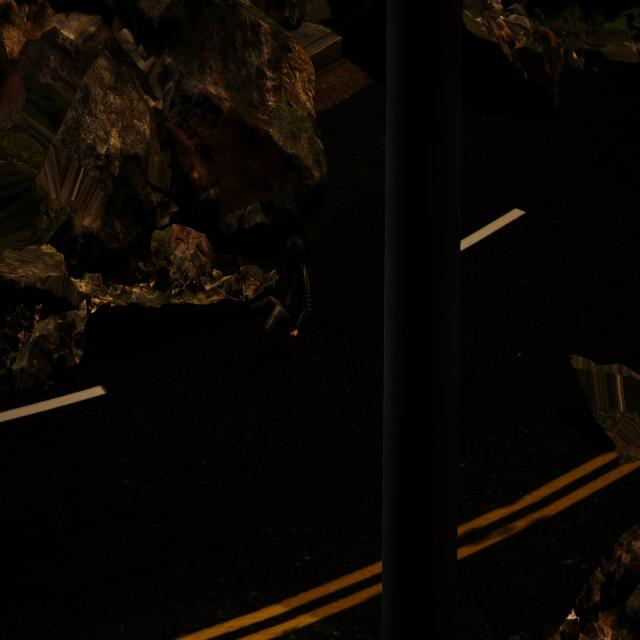Human: (236, 221, 316, 355)
